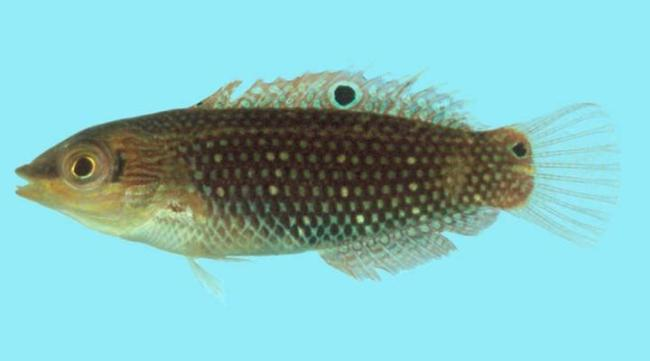fish: (14, 70, 623, 306)
